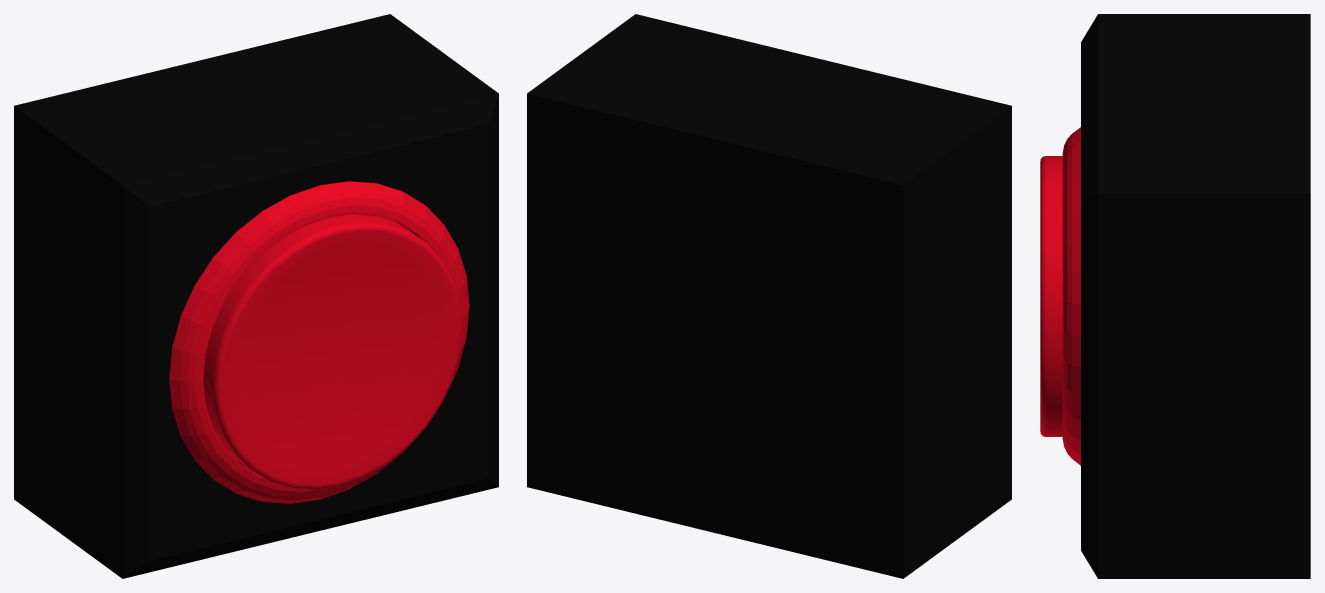
Rendered from ArcadeButton.fbx.
3 views of the same model, side by side, from view 1: azimuth 30°, elevation 25°; view 2: azimuth 150°, elevation 25°; view 3: azimuth 270°, elevation 25° (orthographic). The views are drawn at different scales.
Visible parts, largest first — view 1: Arcade, Arcade Button; view 2: Arcade; view 3: Arcade, Arcade Button.
Boxes of the visible parts, x1,y1,x2,y2 form: Arcade: (14,14,498,578); Arcade Button: (203,214,462,489); Arcade: (527,14,1011,578); Arcade: (1062,14,1310,578); Arcade Button: (1040,156,1062,436).
Size of the model in its own units: 200 by 200 by 127.
